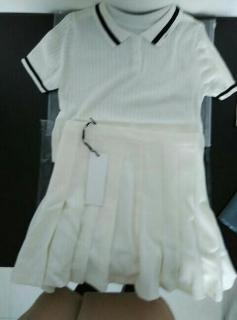short sleeve top: (21, 1, 237, 161)
skirt: (11, 120, 237, 302)
